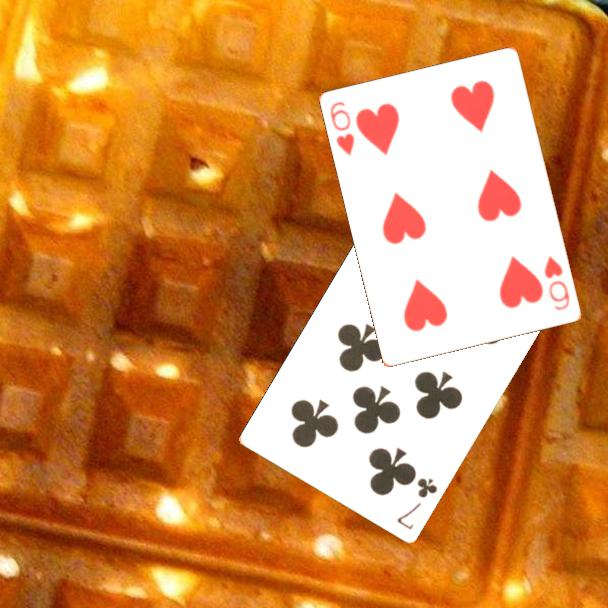c07: (393, 475, 441, 533)
h06: (541, 253, 573, 314), (327, 98, 358, 159)
